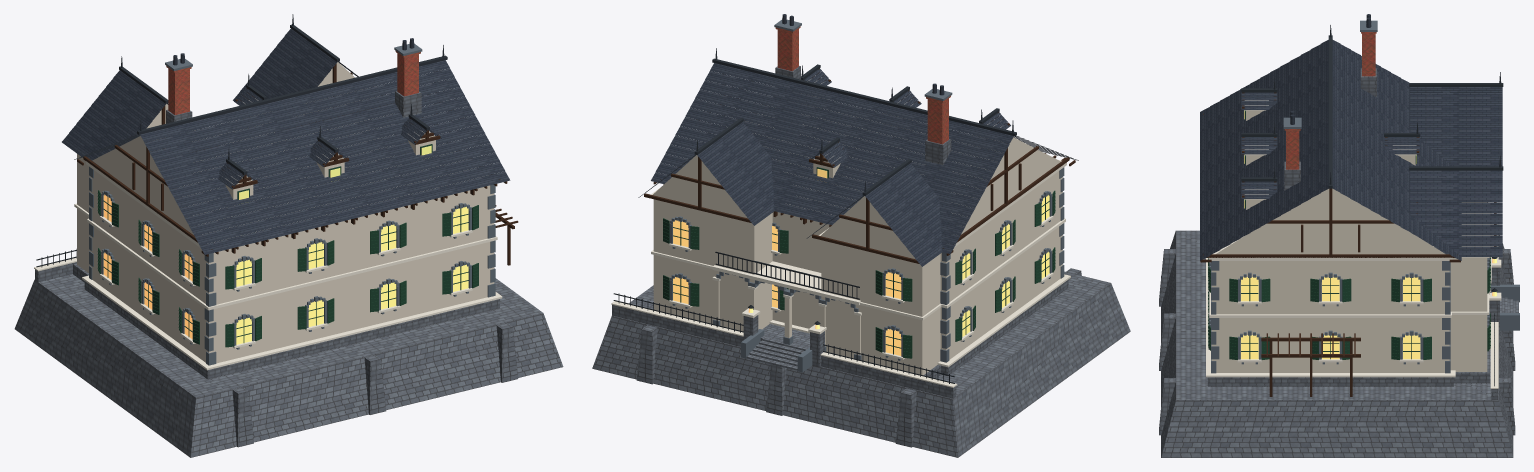
The model's file is fv_lhp_05_le_hong_phong_villa_18_brittany_manor.glb.
The picture shows the model from 3 angles, left to right: view 1: azimuth 30°, elevation 25°; view 2: azimuth 150°, elevation 25°; view 3: azimuth 270°, elevation 25°; orthographic projection.
Visible parts, largest first — view 1: Normandy_Brittany_Layered_Roof, Foundation_Skirt_Neg3p5m, Villa_Stucco_Walls, Molded_Cornices_And_Sills, PineGreen_Louvered_Shutters, Stone_Quoins_And_Arches, Warm_Night_Windows_20h00_Blend, Roof_Ridges_Caps_And_Finials, Exposed_Timber_Trusses_And_Rafters, Brick_Chimney_Stacks; view 2: Foundation_Skirt_Neg3p5m, Villa_Stucco_Walls, Normandy_Brittany_Layered_Roof, Molded_Cornices_And_Sills, Stone_Quoins_And_Arches, PineGreen_Louvered_Shutters, Exposed_Timber_Trusses_And_Rafters, Roof_Ridges_Caps_And_Finials, Warm_Night_Windows_20h00_Blend, Wrought_Iron_Balustrades_And_Gate, Brick_Chimney_Stacks; view 3: Normandy_Brittany_Layered_Roof, Foundation_Skirt_Neg3p5m, Villa_Stucco_Walls, Molded_Cornices_And_Sills, Stone_Quoins_And_Arches, Exposed_Timber_Trusses_And_Rafters, PineGreen_Louvered_Shutters, Warm_Night_Windows_20h00_Blend, Roof_Ridges_Caps_And_Finials, Brick_Chimney_Stacks.
Boxes of the visible parts, <box> form: Normandy_Brittany_Layered_Roof: <box>62,28,510,254</box>; Foundation_Skirt_Neg3p5m: <box>14,91,563,457</box>; Villa_Stucco_Walls: <box>77,62,494,363</box>; Molded_Cornices_And_Sills: <box>34,98,502,370</box>; PineGreen_Louvered_Shutters: <box>97,144,478,347</box>; Stone_Quoins_And_Arches: <box>89,44,495,365</box>; Warm_Night_Windows_20h00_Blend: <box>103,145,468,344</box>; Roof_Ridges_Caps_And_Finials: <box>74,14,447,182</box>; Exposed_Timber_Trusses_And_Rafters: <box>77,64,518,265</box>; Brick_Chimney_Stacks: <box>166,51,420,115</box>; Foundation_Skirt_Neg3p5m: <box>592,66,1130,457</box>; Villa_Stucco_Walls: <box>653,93,1062,375</box>; Normandy_Brittany_Layered_Roof: <box>642,14,1013,266</box>; Molded_Cornices_And_Sills: <box>611,79,1070,387</box>; Stone_Quoins_And_Arches: <box>669,19,1064,372</box>; PineGreen_Louvered_Shutters: <box>663,167,1055,358</box>; Exposed_Timber_Trusses_And_Rafters: <box>644,68,1075,263</box>; Roof_Ridges_Caps_And_Finials: <box>638,48,1078,238</box>; Warm_Night_Windows_20h00_Blend: <box>673,169,1049,355</box>; Wrought_Iron_Balustrades_And_Gate: <box>613,251,954,383</box>; Brick_Chimney_Stacks: <box>775,26,950,144</box>; Normandy_Brittany_Layered_Roof: <box>1200,14,1502,260</box>; Foundation_Skirt_Neg3p5m: <box>1159,68,1518,457</box>; Villa_Stucco_Walls: <box>1211,110,1487,372</box>; Molded_Cornices_And_Sills: <box>1206,100,1501,388</box>; Stone_Quoins_And_Arches: <box>1208,20,1519,373</box>; Exposed_Timber_Trusses_And_Rafters: <box>1200,92,1496,396</box>; PineGreen_Louvered_Shutters: <box>1208,110,1490,359</box>; Warm_Night_Windows_20h00_Blend: <box>1241,110,1496,359</box>; Roof_Ridges_Caps_And_Finials: <box>1241,25,1503,188</box>; Brick_Chimney_Stacks: <box>1284,32,1376,169</box>.
Size of the model in its own units: 26.93 by 20.6 by 22.12.
Materials: 12 (3 with a texture image).
